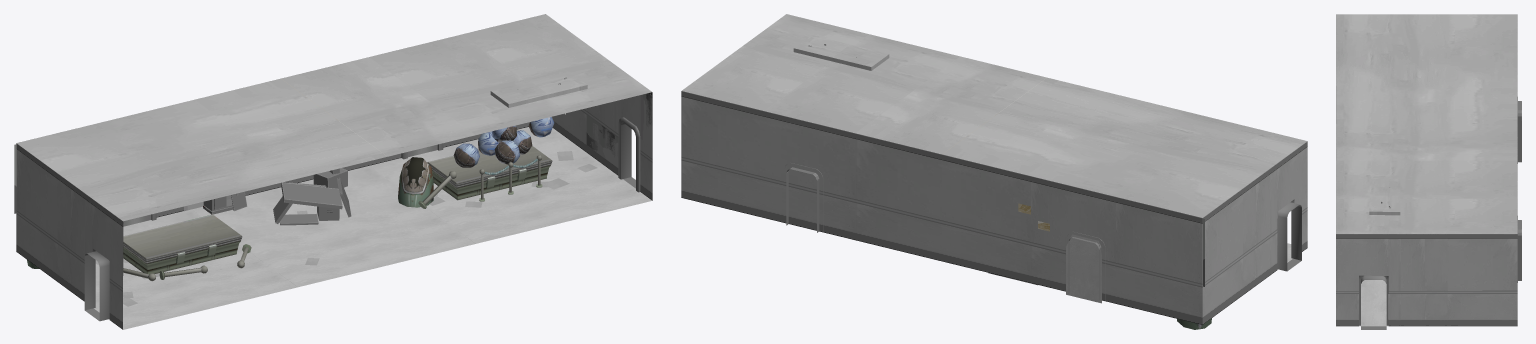
Rendered from MSH_QuestRobCo_L2_R3_optimized.fbx.
The picture shows the model from 3 angles, left to right: view 1: azimuth 30°, elevation 25°; view 2: azimuth 150°, elevation 25°; view 3: azimuth 270°, elevation 25°; orthographic projection. The views are drawn at different scales.
Visible parts, largest first — view 1: lightmap7, lightmap1, lightmap0, lightmap9, MSH_QuestRobCo_L2_R3_Dirt_01_NB; view 2: lightmap0, lightmap7; view 3: lightmap7, lightmap0, lightmap1.
Part boxes in pixels (x1=…): lightmap7: x1=16, y1=14, x2=652, y2=221; lightmap1: x1=94, y1=127, x2=652, y2=329; lightmap0: x1=16, y1=77, x2=652, y2=329; lightmap9: x1=27, y1=116, x2=554, y2=281; MSH_QuestRobCo_L2_R3_Dirt_01_NB: x1=14, y1=92, x2=652, y2=275; lightmap0: x1=681, y1=44, x2=1307, y2=324; lightmap7: x1=682, y1=14, x2=1307, y2=217; lightmap7: x1=1336, y1=14, x2=1517, y2=233; lightmap0: x1=1336, y1=97, x2=1521, y2=329; lightmap1: x1=1359, y1=280, x2=1388, y2=326.
Bounding box in the file's own units: 30.91 × 6.67 × 10.68.
3 materials, 3 textured.
